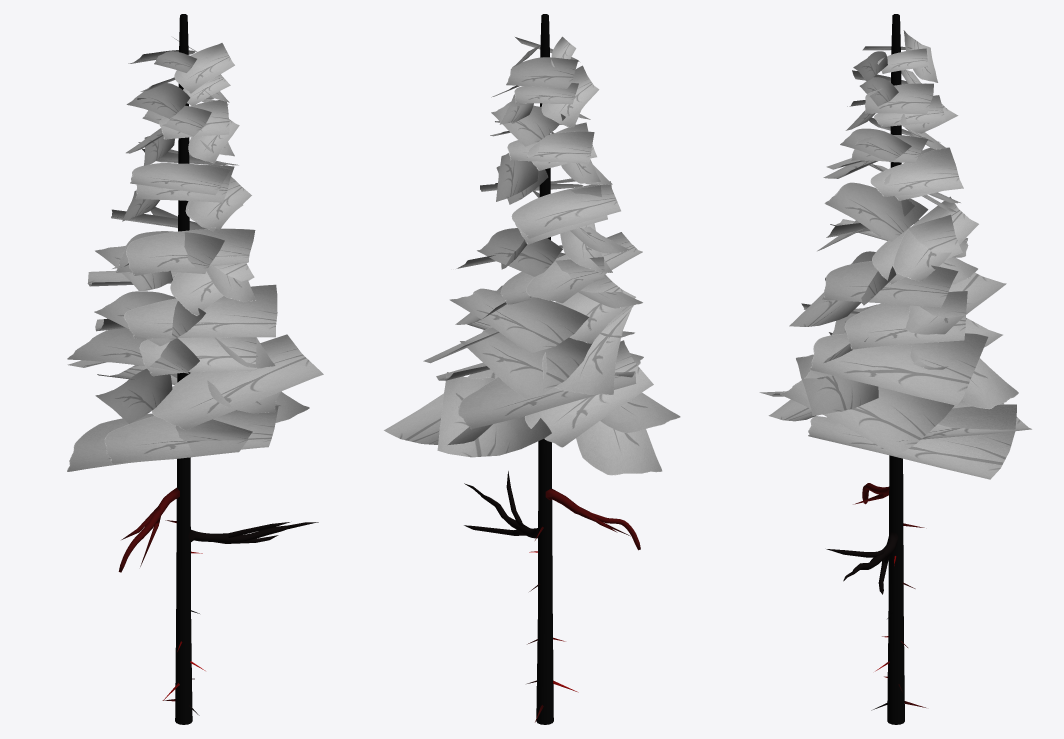
The model's file is M_Pine_5_6.fbx.
3 views of the same model, side by side, from view 1: azimuth 30°, elevation 25°; view 2: azimuth 150°, elevation 25°; view 3: azimuth 270°, elevation 25° (orthographic).
Parts seen in each view (by area): view 1: Mobile_Pine_6; view 2: Mobile_Pine_6; view 3: Mobile_Pine_6.
Part boxes in pixels (x1=…): Mobile_Pine_6: x1=67, y1=14, x2=323, y2=724; Mobile_Pine_6: x1=384, y1=14, x2=680, y2=724; Mobile_Pine_6: x1=759, y1=14, x2=1031, y2=724.
Bounding box in the file's own units: 2009 × 4801 × 1913.
